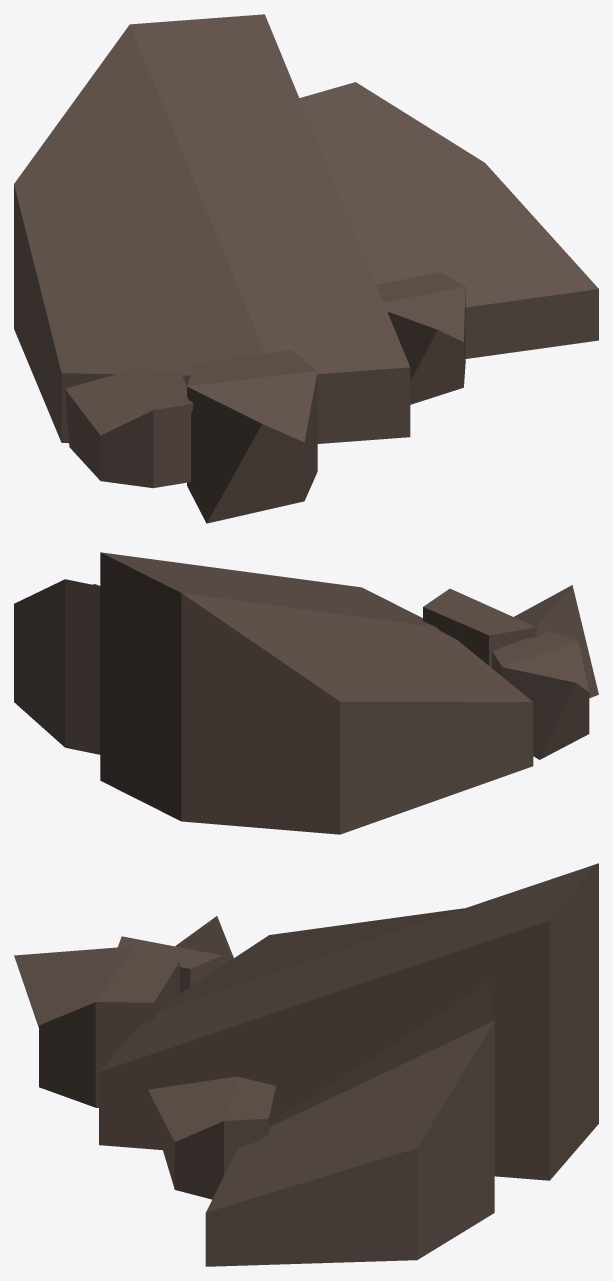
The model's file is 16 Stone_2.FBX.
3 renders of one model, top to bottom at view 1: azimuth 30°, elevation 25°; view 2: azimuth 150°, elevation 25°; view 3: azimuth 270°, elevation 25°, orthographic. The views are drawn at different scales.
Parts seen in each view (by area): view 1: Rock Type5 01 mesh002; view 2: Rock Type5 01 mesh002; view 3: Rock Type5 01 mesh002.
Boxes of the visible parts, x1,y1,x2,y2 form: Rock Type5 01 mesh002: (14, 14, 598, 523); Rock Type5 01 mesh002: (14, 552, 598, 834); Rock Type5 01 mesh002: (14, 863, 598, 1266).
Bounding box in the file's own units: 889 × 416 × 812.
